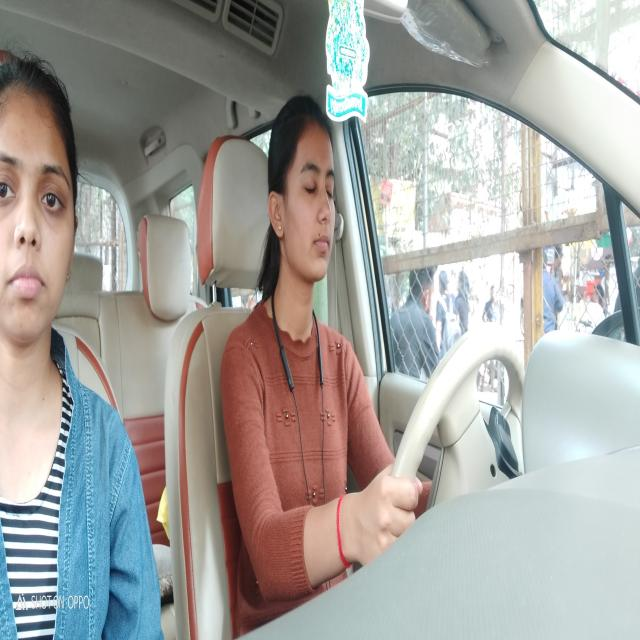drowsy: (261, 81, 349, 333)
person: (0, 47, 87, 376)
